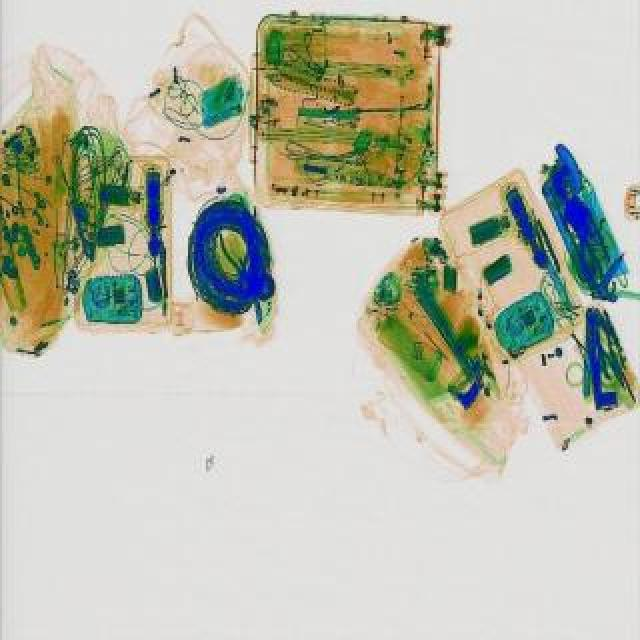wrench: (570, 222, 610, 298), (218, 228, 262, 296)
